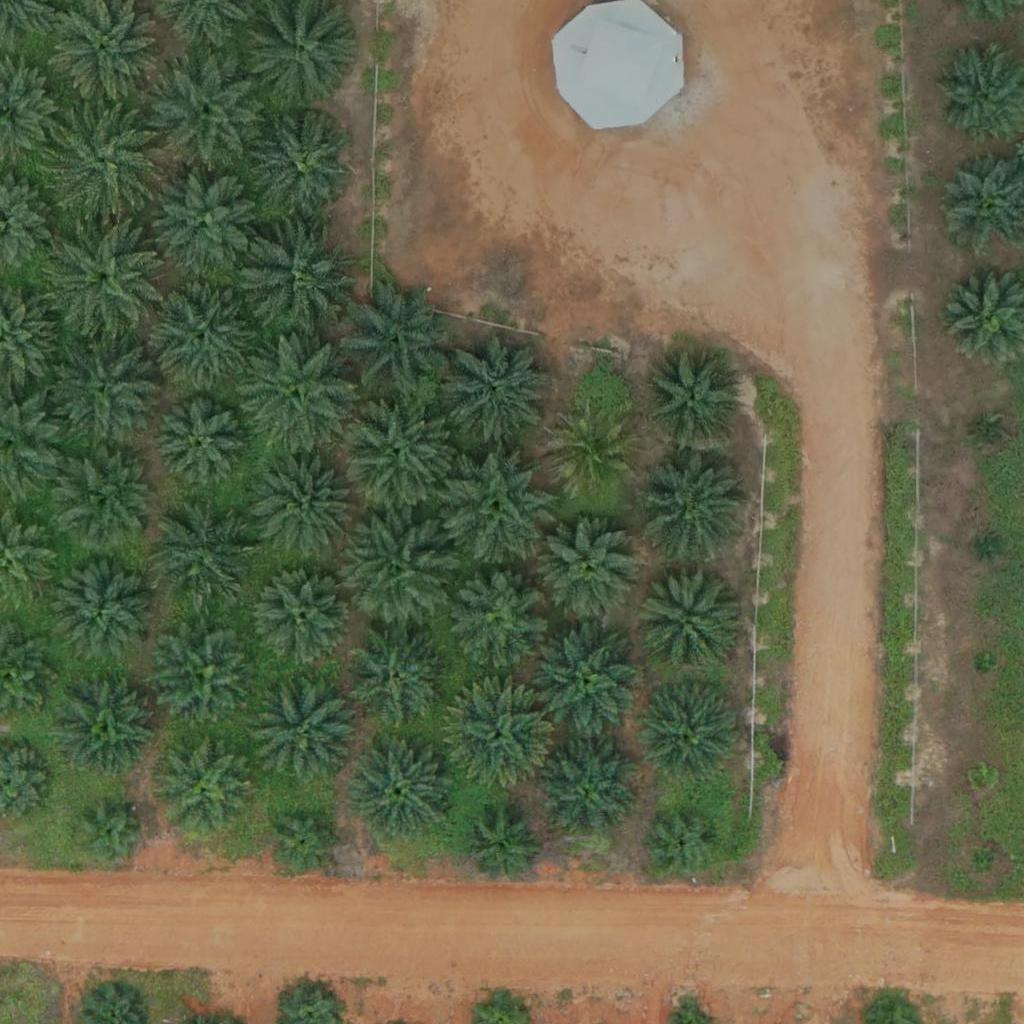Kelapa_Sawit: (444, 334, 557, 448), (442, 450, 555, 564), (342, 285, 455, 399), (531, 623, 644, 736), (47, 224, 160, 337), (46, 329, 159, 442), (151, 56, 263, 170), (342, 391, 454, 505), (245, 224, 357, 338), (444, 684, 556, 797), (43, 104, 155, 217), (639, 449, 751, 562), (339, 516, 451, 629), (242, 338, 354, 451), (146, 283, 258, 396), (148, 168, 260, 281), (641, 349, 741, 450), (538, 741, 638, 842), (347, 632, 447, 733), (351, 739, 451, 840), (253, 455, 353, 556), (254, 568, 354, 669), (254, 677, 354, 778), (153, 500, 253, 601), (155, 626, 255, 727), (155, 738, 255, 839), (61, 450, 161, 551), (55, 558, 155, 659), (56, 680, 156, 781), (253, 116, 353, 216), (636, 569, 736, 669), (641, 683, 741, 783), (542, 522, 642, 622), (448, 572, 548, 672), (547, 412, 635, 500), (155, 402, 242, 490), (647, 805, 722, 881), (73, 797, 148, 873), (465, 811, 540, 886), (269, 805, 344, 880), (976, 422, 1001, 447), (976, 535, 1001, 560), (972, 653, 997, 678), (968, 765, 993, 790), (971, 849, 996, 874)
